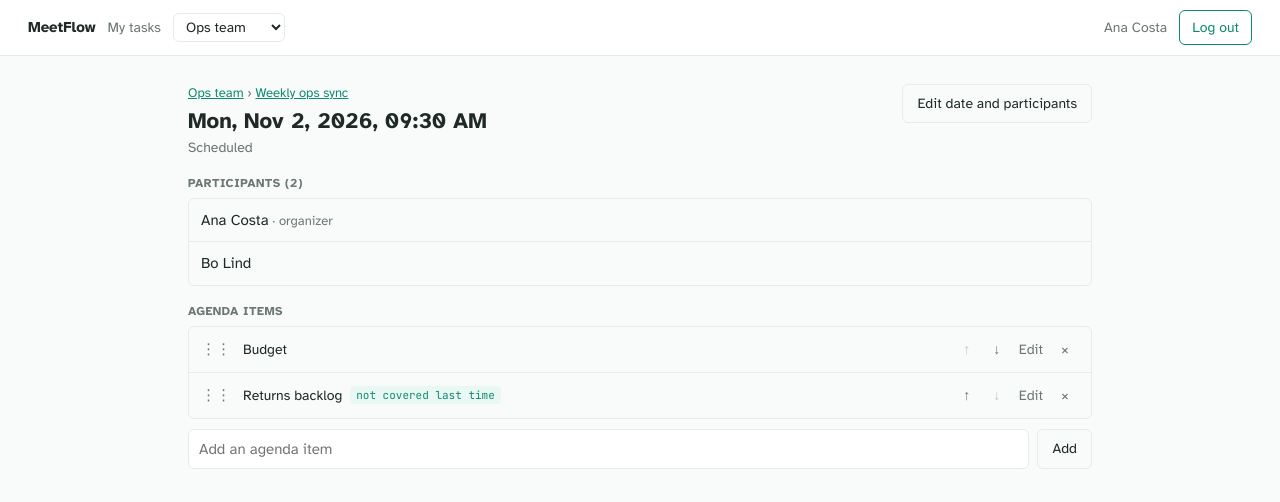
Test: the agenda › turns read-only and says why when the organizer role moved to someone else
The image size is (1280, 502).
Click the button with aria-label "Edit Budget". click: [1031, 349]
box: x1=1013 y1=336 x2=1049 y2=362
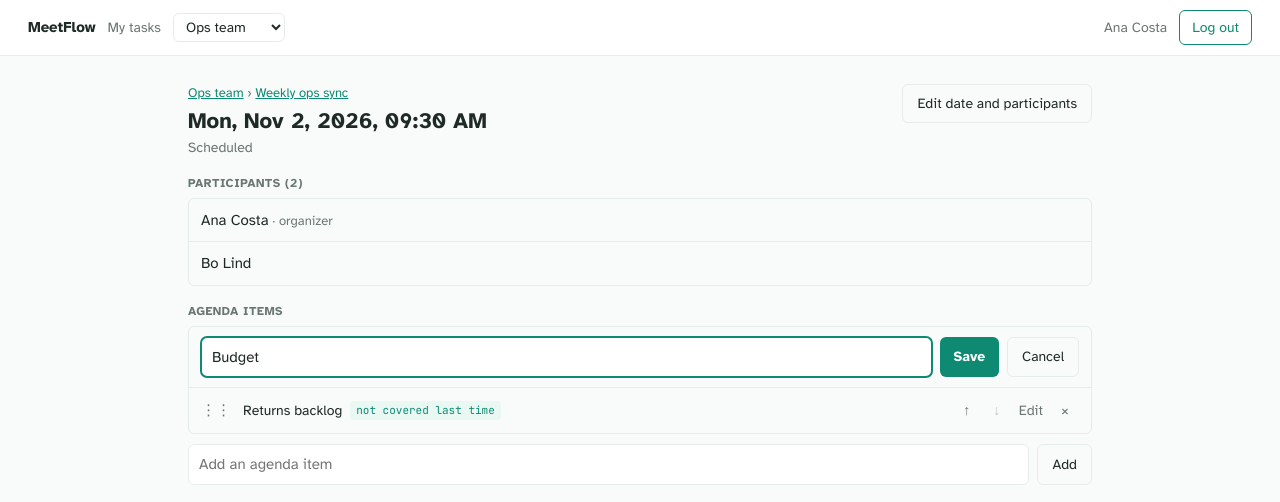
Click the button "Save". click: [969, 357]
box: x1=940 y1=336 x2=999 y2=377
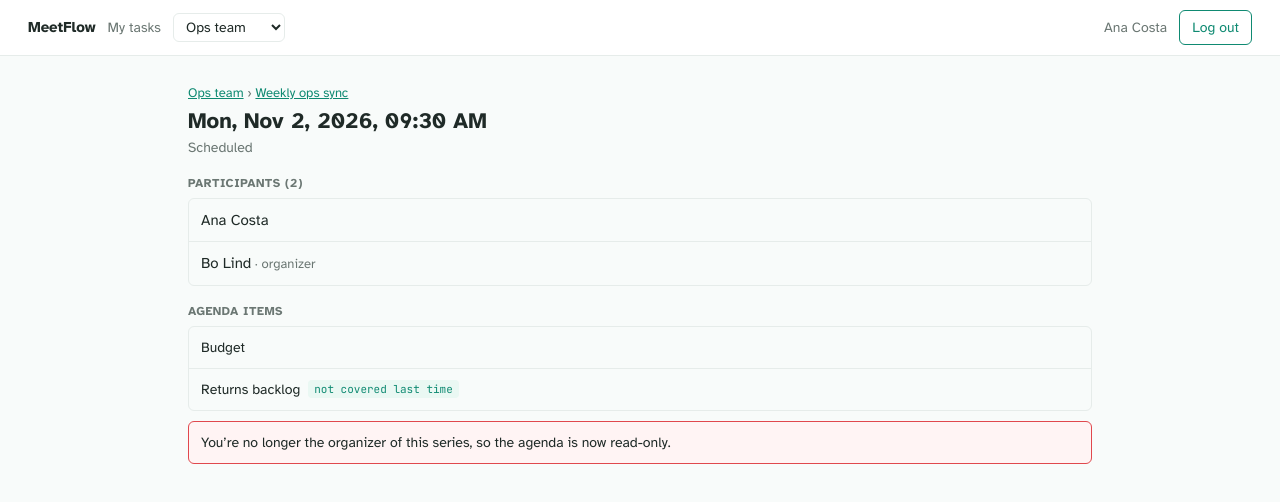
Now the message shows "no longer the organizer", box x1=201 y1=434 x2=671 y2=450
Now the button "Save" is gone
Now the text "Budget" is shown, box x1=201 y1=338 x2=245 y2=356
